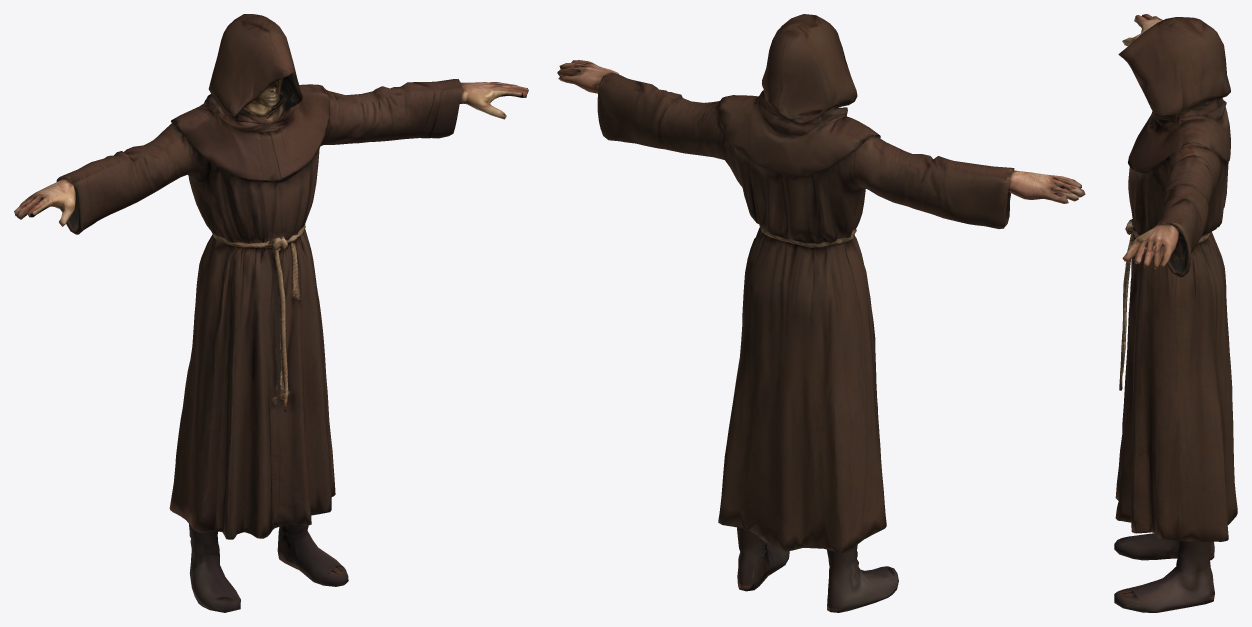
File: Meshy_AI_Monastic_Contemplatio_0223043241_texture.glb
3 views of the same model, side by side, from view 1: azimuth 30°, elevation 25°; view 2: azimuth 150°, elevation 25°; view 3: azimuth 270°, elevation 25° (orthographic). The views are drawn at different scales.
Size of the model in its own units: 1.92 by 2 by 0.4002.
Materials: 1 (1 with a texture image).
